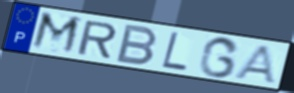A: (231, 44, 278, 86)
B: (113, 23, 160, 67)
G: (197, 35, 242, 79)
L: (160, 30, 189, 73)
M: (28, 10, 84, 57)
R: (75, 20, 119, 60)
